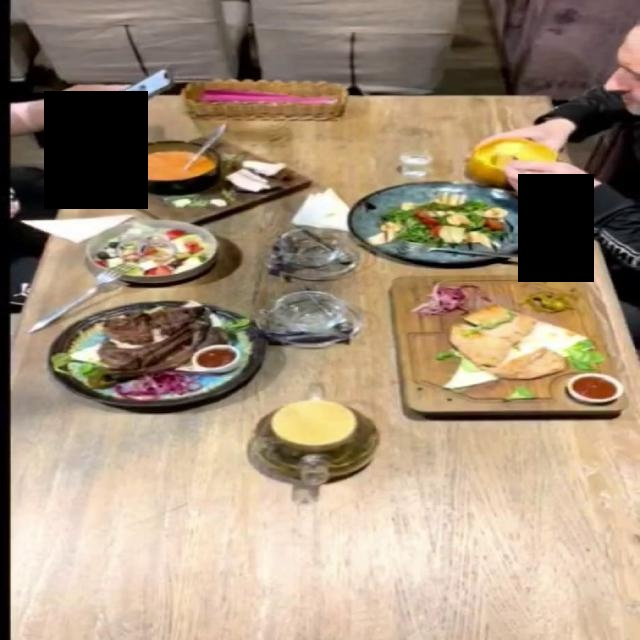meat: (366, 269, 634, 415), (49, 299, 269, 407)
salad: (352, 180, 518, 265), (83, 218, 220, 283)
soup: (82, 137, 312, 225), (469, 138, 557, 186)
tea: (236, 370, 388, 505)
